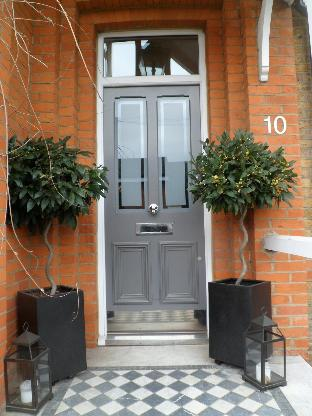door: (93, 25, 216, 338)
tree: (185, 123, 312, 371), (5, 129, 112, 390)
